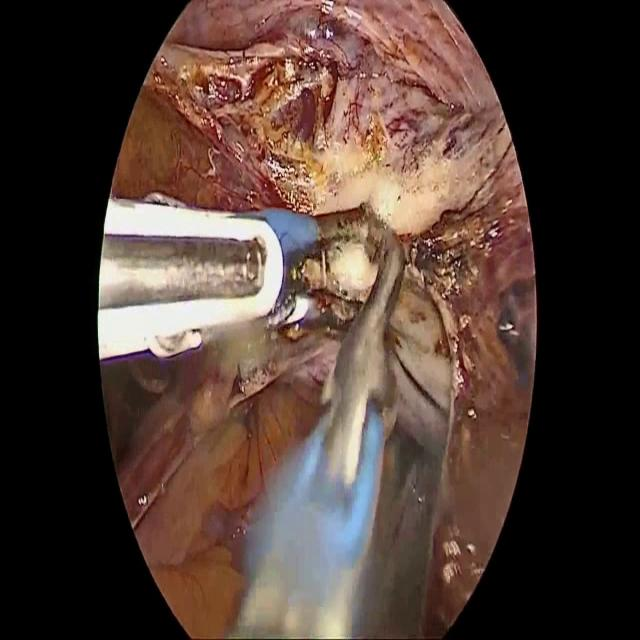surgical-area: (110, 0, 536, 639), (100, 316, 350, 639)
surgical-tool: (98, 192, 406, 639)
